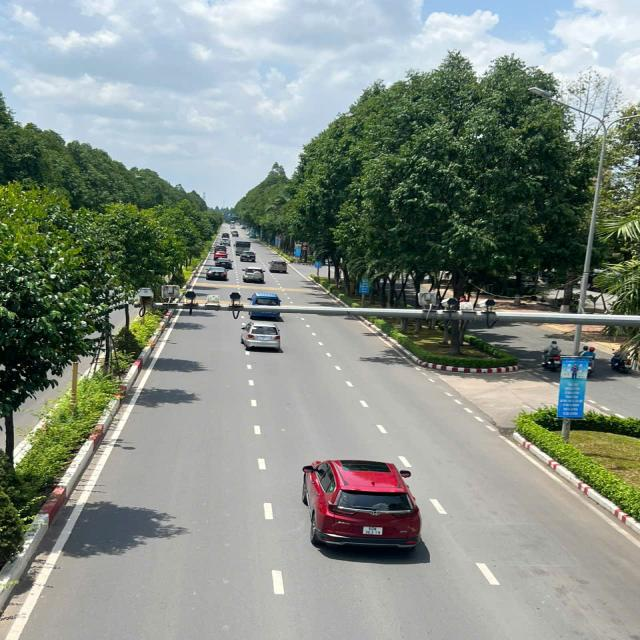Bus: (236, 240, 251, 251)
car: (300, 450, 421, 556), (240, 320, 283, 350), (250, 290, 281, 318), (241, 266, 266, 282), (207, 266, 229, 280), (270, 258, 288, 272), (215, 258, 233, 267), (240, 251, 256, 261), (213, 251, 227, 258), (218, 238, 232, 245), (230, 230, 238, 237), (214, 246, 227, 250), (222, 233, 229, 238)
